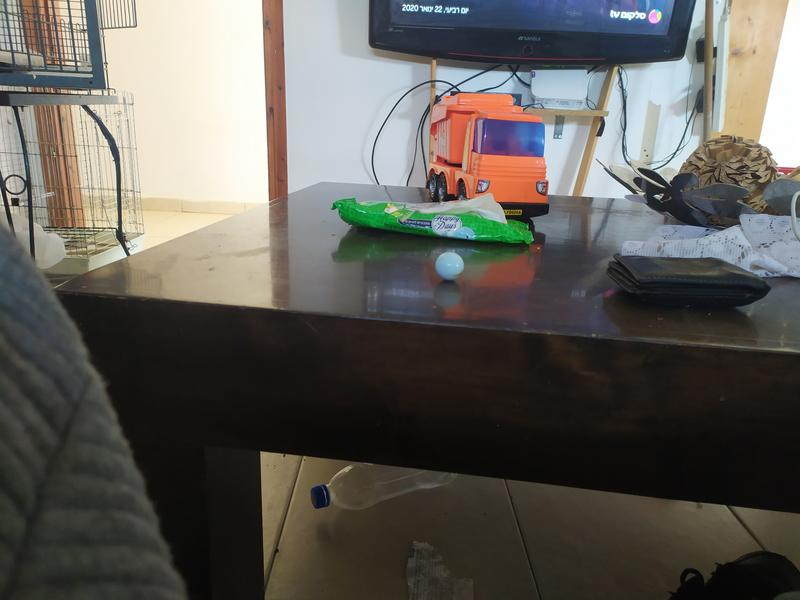Warning: (433, 250, 467, 283)
